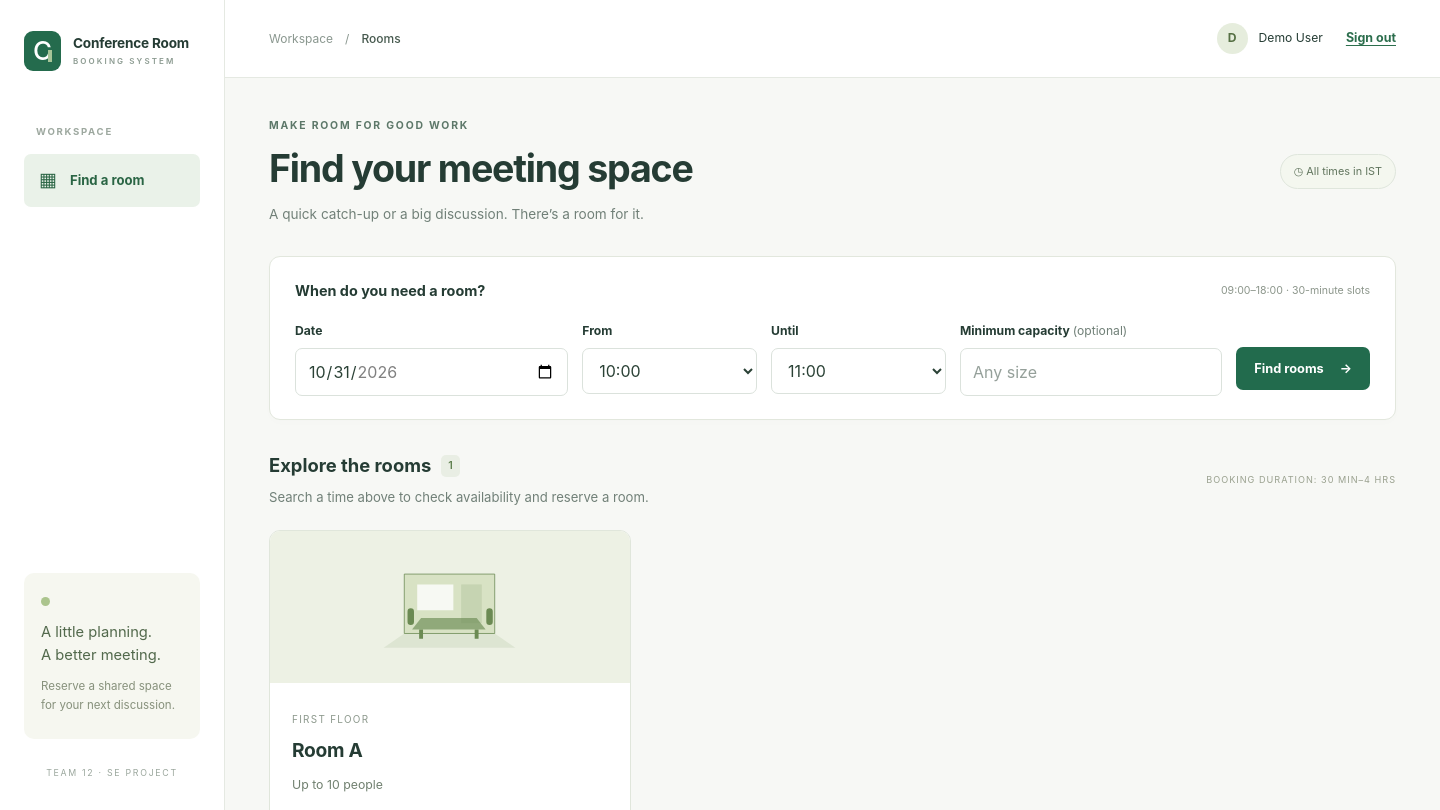
Test: TC16 / login and session UI › signs out and returns to login
Check: the heading "Room A" is shown, box [292,738,362,762]
Click the button "Sign out": click(1371, 38) [1346,29,1396,48]
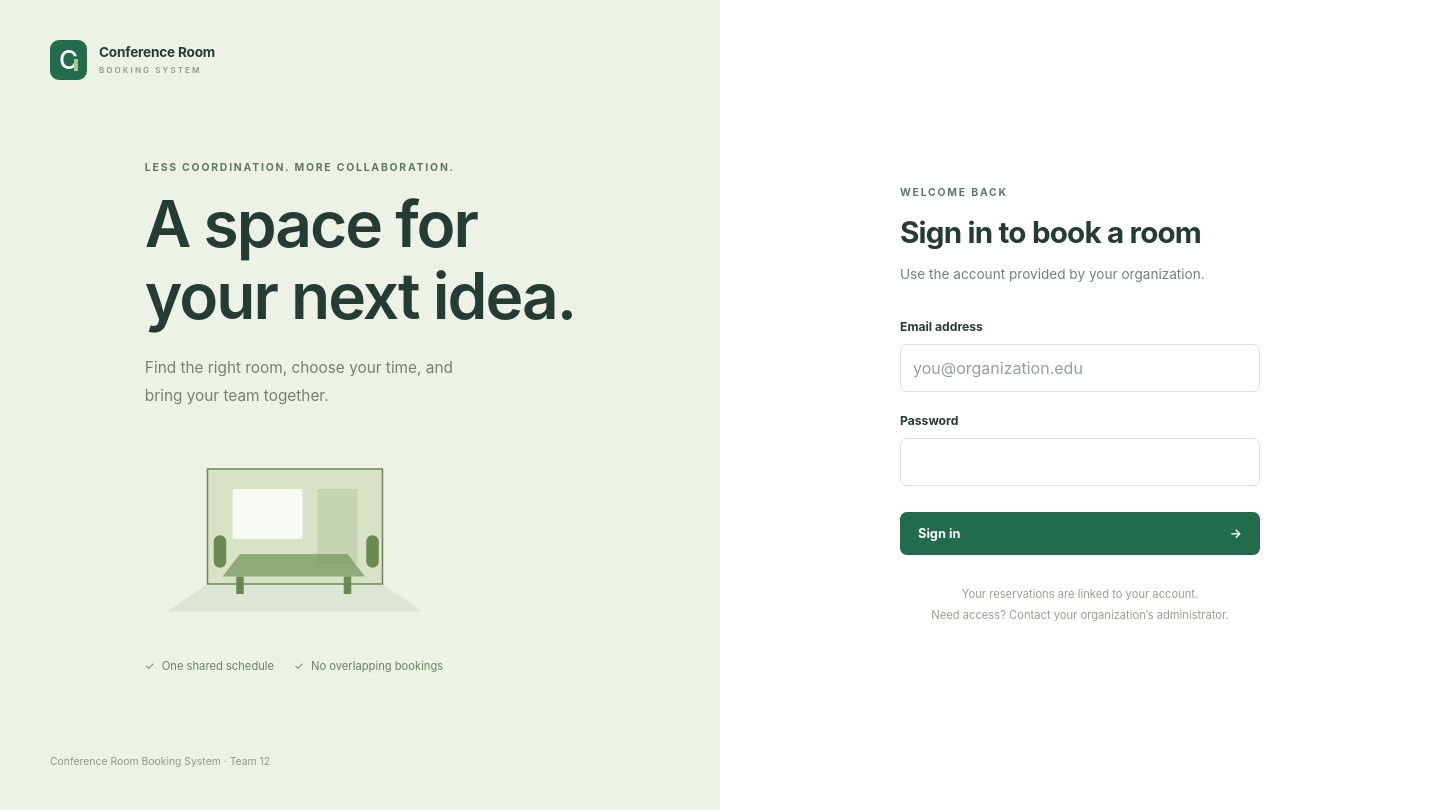
Check: the button "Sign in →" is shown, box [900,512,1260,555]
